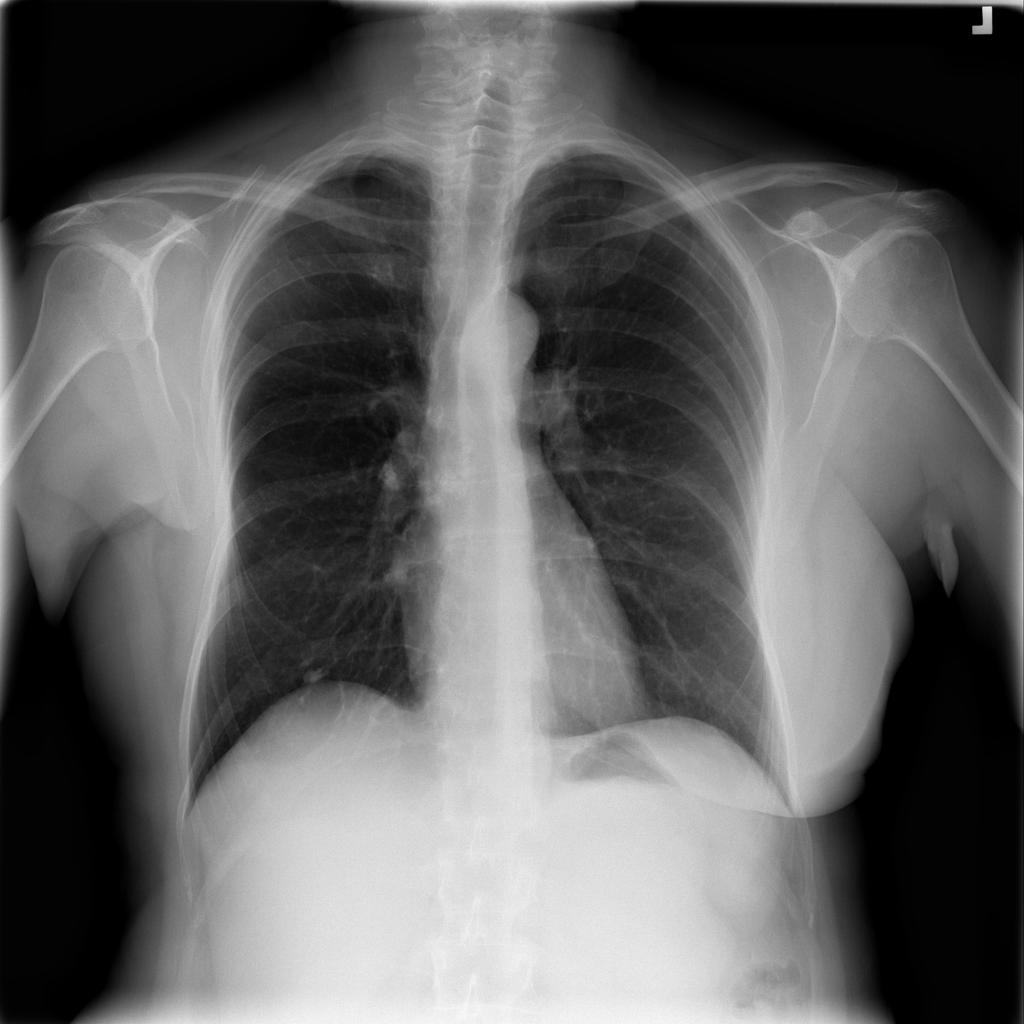nodule: (288, 649, 337, 701)
